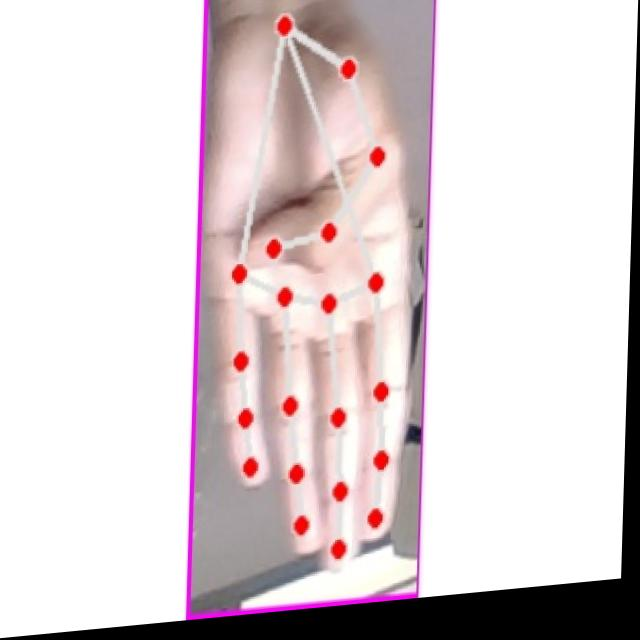B: (206, 2, 427, 595)
